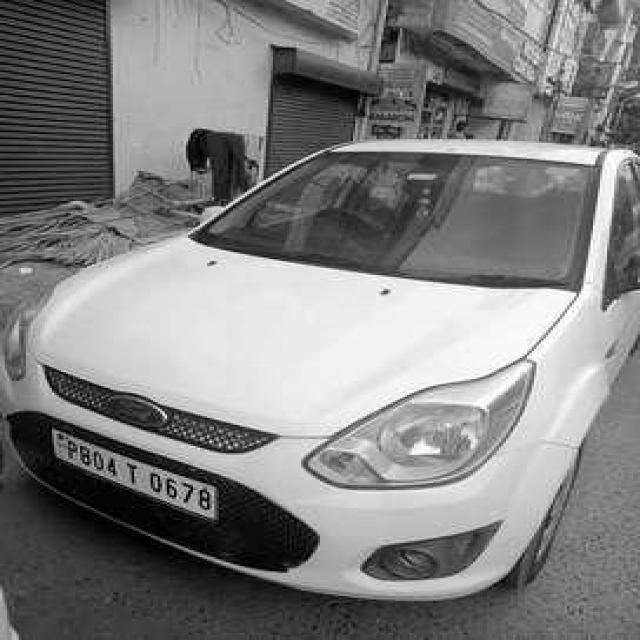car: (7, 138, 640, 608)
license-plate: (49, 430, 219, 524)
